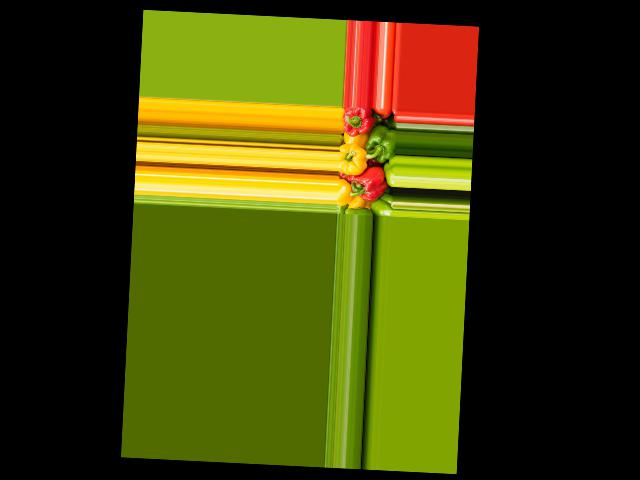bell_pepper: (341, 107, 375, 141)
